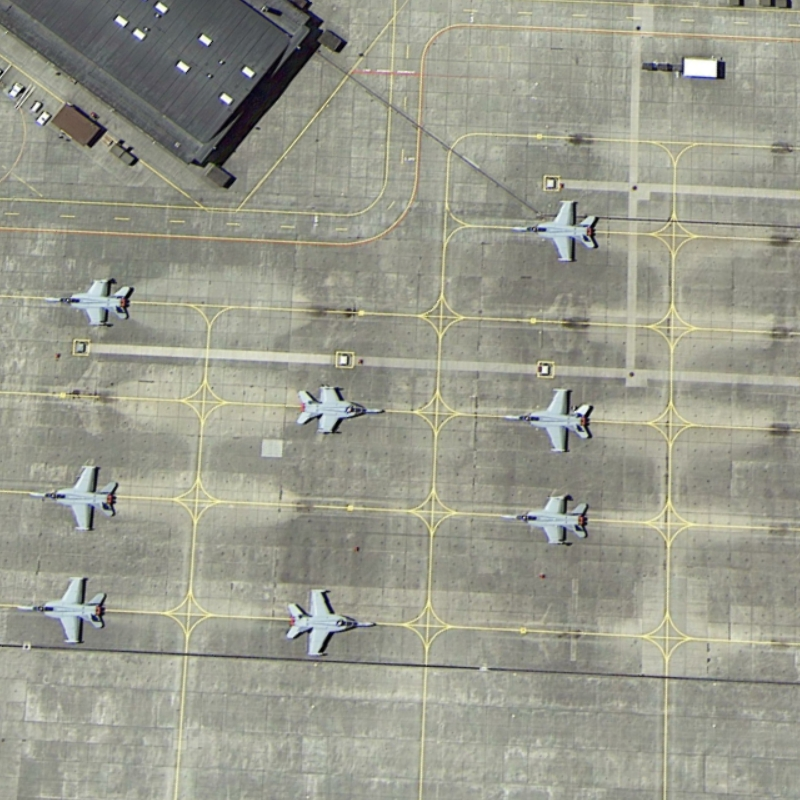A16: (283, 579, 381, 667), (23, 459, 126, 539), (10, 570, 110, 649), (505, 189, 605, 265), (497, 384, 597, 456), (495, 487, 597, 552), (293, 378, 389, 444), (40, 272, 137, 333)
